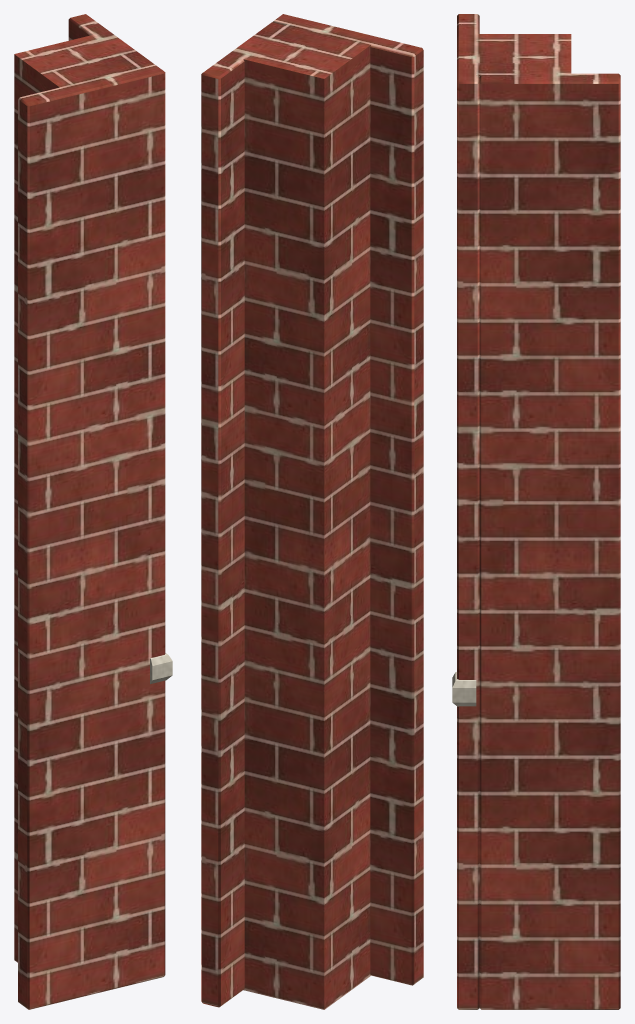
The model's file is o_corner_u2.glb.
The picture shows the model from 3 angles, left to right: view 1: azimuth 30°, elevation 25°; view 2: azimuth 150°, elevation 25°; view 3: azimuth 270°, elevation 25°; orthographic projection. The views are drawn at different scales.
Visible parts, largest first — view 1: o_corner_u2_brick, o_corner_u2_trim; view 2: o_corner_u2_brick; view 3: o_corner_u2_brick, o_corner_u2_trim.
Boxes of the visible parts, x1,y1,x2,y2 form: o_corner_u2_brick: (14, 14, 165, 1009); o_corner_u2_trim: (150, 653, 172, 683); o_corner_u2_brick: (201, 14, 423, 1009); o_corner_u2_brick: (457, 14, 620, 1009); o_corner_u2_trim: (452, 672, 476, 706).
Size of the model in its own units: 0.525 by 3.19 by 0.525.
2 materials, 2 textured.
